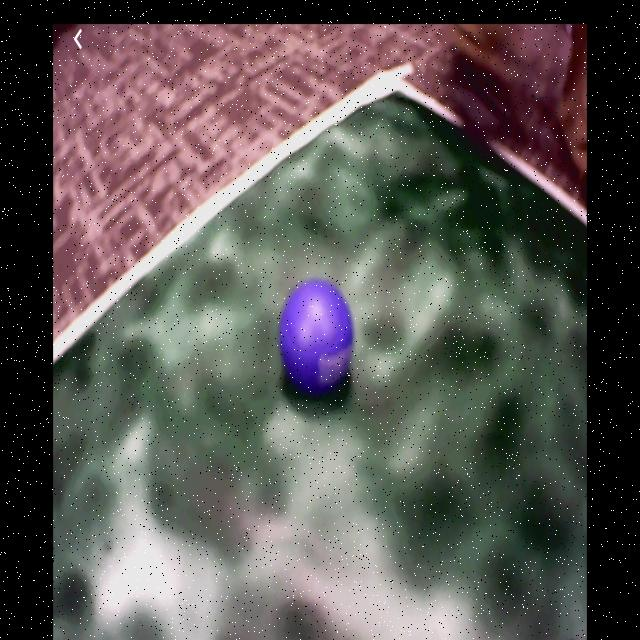ball: (281, 278, 353, 393)
